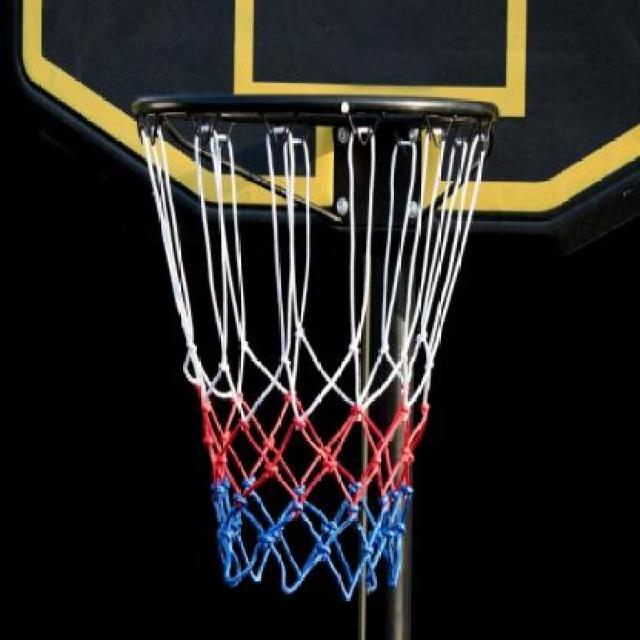rim: (130, 92, 502, 600)
